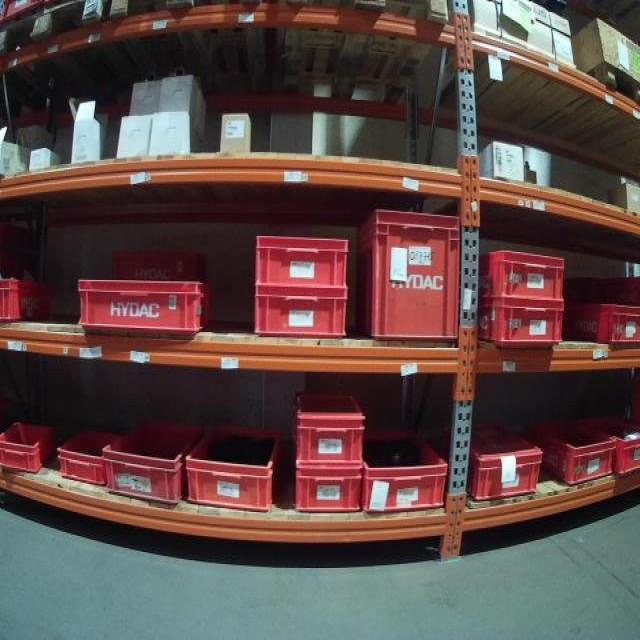pallet: (280, 0, 451, 104), (115, 0, 274, 106), (527, 69, 640, 151)
small_load_carrier: (350, 207, 463, 344), (103, 415, 207, 508), (187, 419, 286, 513), (361, 420, 452, 519), (74, 274, 213, 335), (465, 413, 544, 501), (293, 386, 372, 467), (538, 412, 618, 490), (249, 228, 351, 286), (252, 287, 351, 340), (477, 244, 568, 300), (479, 300, 568, 349), (55, 423, 119, 487), (293, 465, 364, 517), (2, 412, 60, 474), (573, 298, 638, 349), (595, 406, 640, 476), (0, 272, 62, 322)
